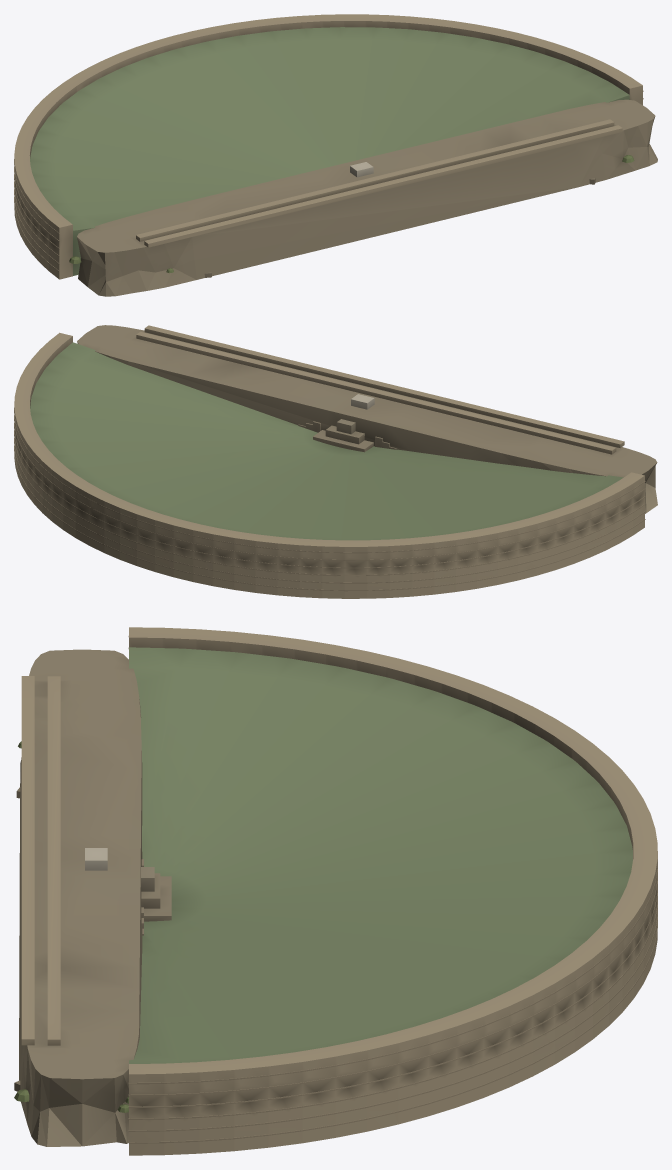
Rendered from pnyx.glb.
The picture shows the model from 3 angles, top to bottom: view 1: azimuth 30°, elevation 25°; view 2: azimuth 150°, elevation 25°; view 3: azimuth 270°, elevation 25°; orthographic projection. The views are drawn at different scales.
Parts seen in each view (by area): view 1: p0_hill, p1_walls, p2_terrace; view 2: p0_hill, p1_walls, p2_terrace; view 3: p0_hill, p1_walls, p2_terrace.
Part boxes in pixels (x1,y1,x2,y2): p0_hill: (30, 27, 657, 296); p1_walls: (14, 14, 643, 279); p2_terrace: (136, 119, 622, 247); p0_hill: (30, 325, 657, 540); p1_walls: (14, 332, 645, 598); p2_terrace: (136, 325, 624, 454); p0_hill: (14, 647, 632, 1146); p1_walls: (128, 627, 657, 1155); p2_terrace: (21, 676, 107, 1045).
Bounding box in the file's own units: 113 × 9.6 × 68.91.
